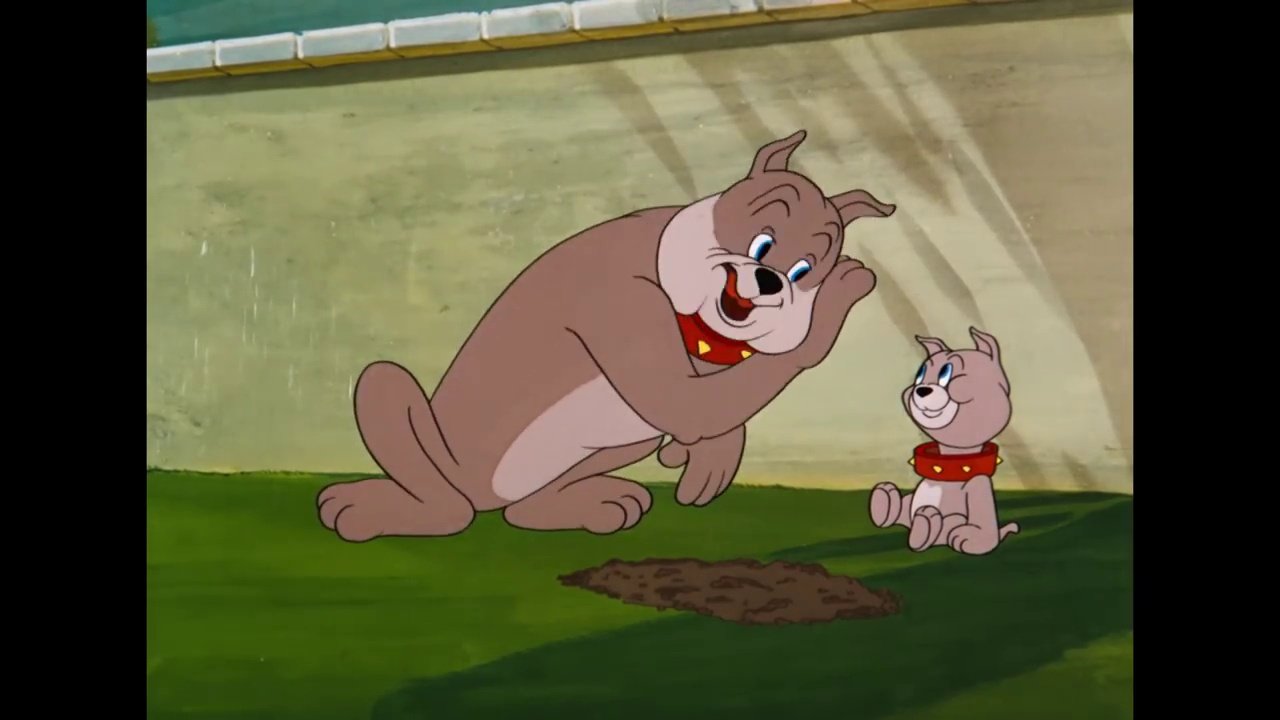spike: (644, 130, 896, 369)
